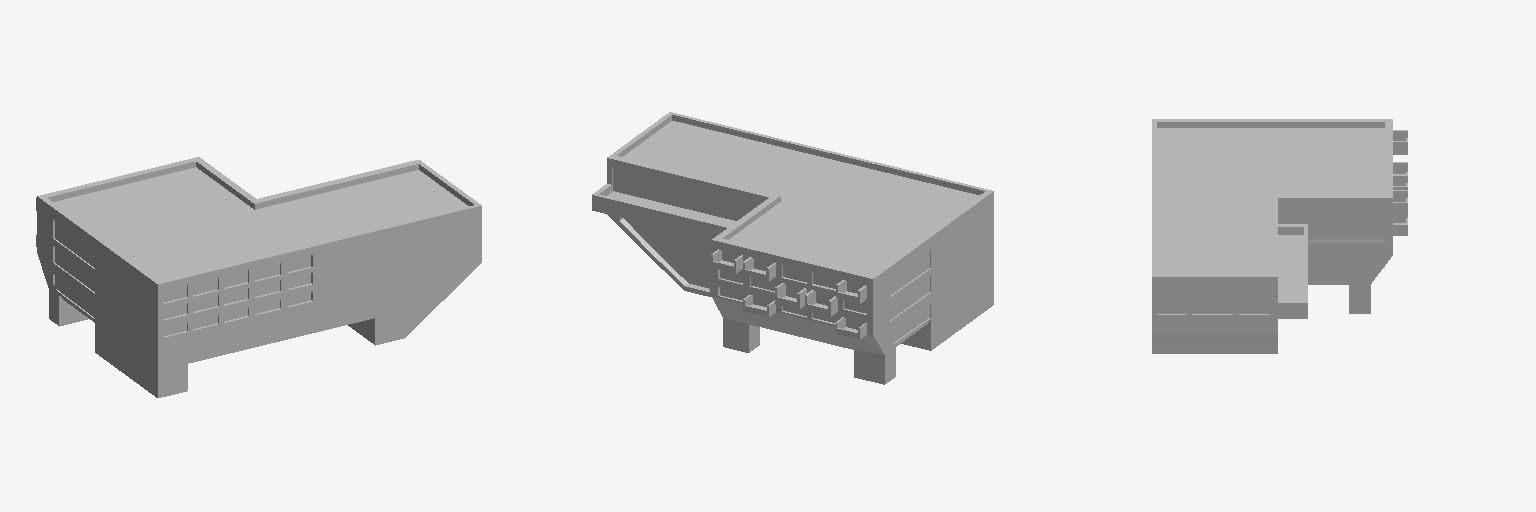
The model's file is campus_color.obj.
3 views of the same model, side by side, from view 1: azimuth 30°, elevation 25°; view 2: azimuth 150°, elevation 25°; view 3: azimuth 270°, elevation 25° (orthographic).
Parts seen in each view (by area): view 1: Boole; view 2: Boole; view 3: Boole.
Boxes of the visible parts, x1=… form: Boole: x1=36, y1=157, x2=481, y2=397; Boole: x1=592, y1=112, x2=993, y2=384; Boole: x1=1152, y1=119, x2=1407, y2=353.
Size of the model in its own units: 346 by 118 by 237.